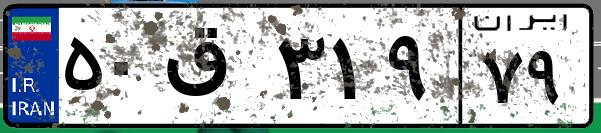0: (110, 28, 158, 98)
1: (330, 28, 385, 110)
3: (270, 28, 330, 110)
5: (57, 26, 110, 100)
7: (475, 38, 525, 113)
9: (385, 28, 445, 110), (525, 38, 570, 115)
ق: (158, 20, 270, 120)
